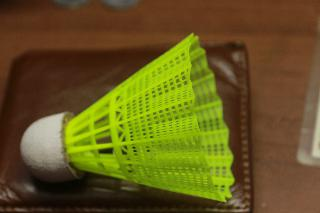shuttlecock: (20, 33, 234, 202)
